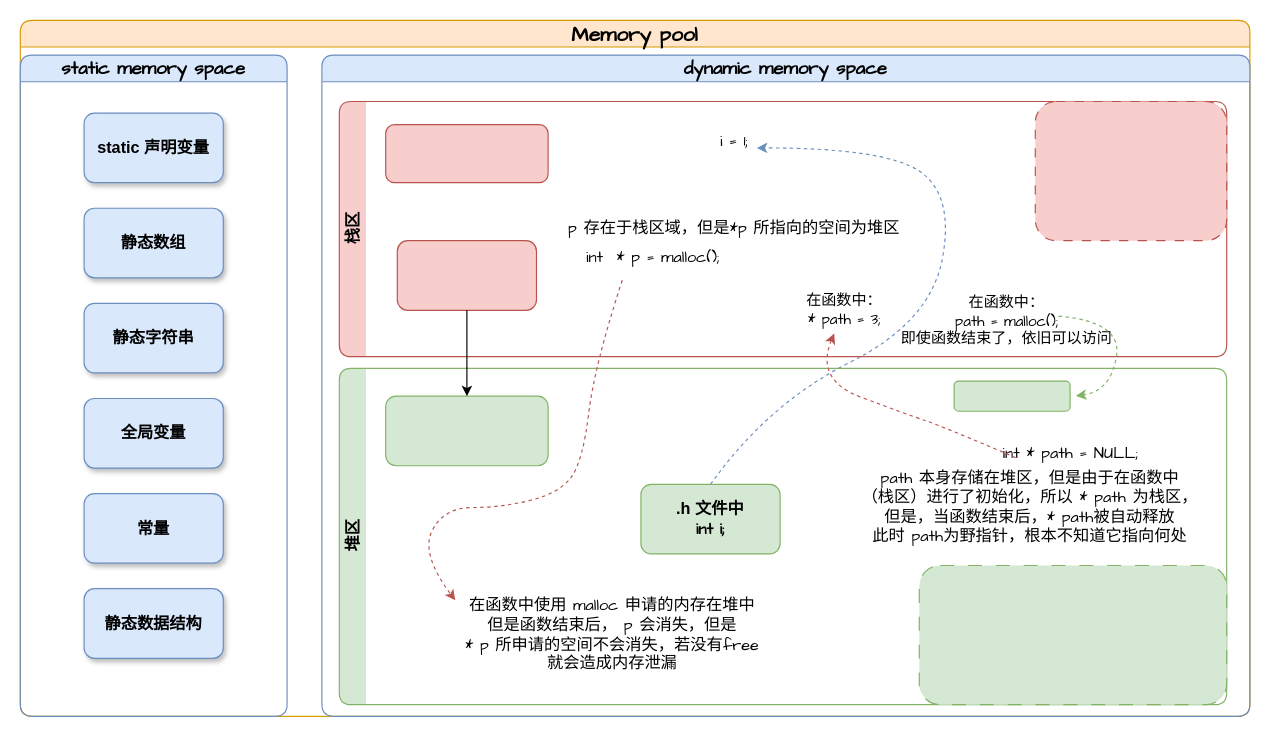
Image size: 1270x737. Some labels were removed from this diagram. Each missing label, with the centre of its shape:
malloc()申请内存: the point at 466,430
path指向的内存: the point at 1011,395
函数中malloc(): the point at 466,275
堆区 程序员可以自行分配，但是切记要 free 释放，否则会造成内存泄漏: the point at 1072,634
局部函数及局部变量: the point at 466,153
栈区 函数自行申请，在生命周期末，自动释放: the point at 1130,170
